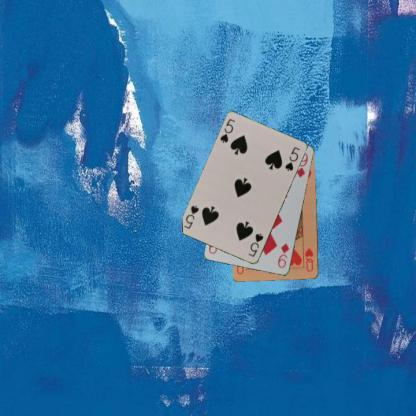5s: (218, 116, 236, 145), (246, 230, 264, 258)
9d: (275, 240, 291, 270)
Qh: (302, 246, 316, 273)
